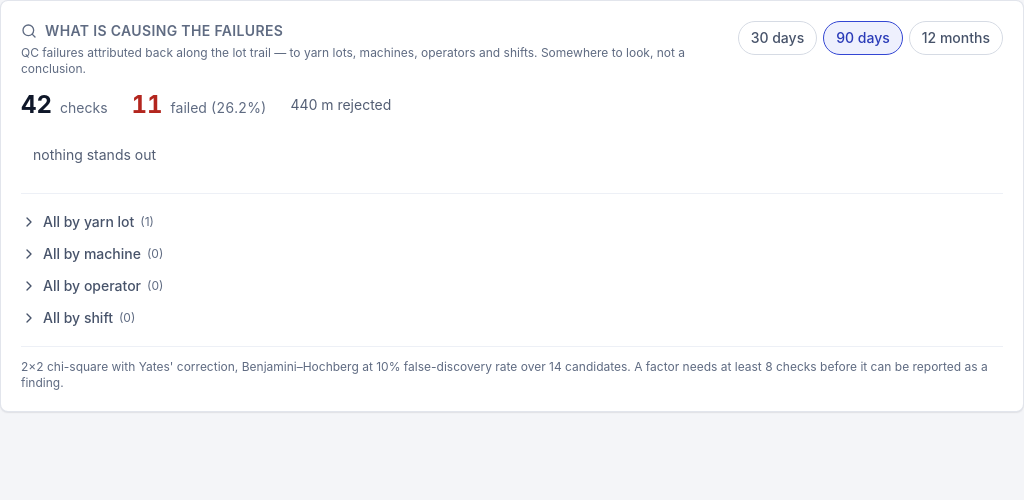
Test: RootCausePanel › keeps thin rows out of the findings but visible in the full table
This screenshot has width=1024, height=500.
Check: the text "nothing stands out" is shown, box left=33, top=146, right=156, bottom=163
But reachable.
Click the button "All by yarn lot (1)". click: point(63, 222)
box: left=21, top=206, right=1003, bottom=238
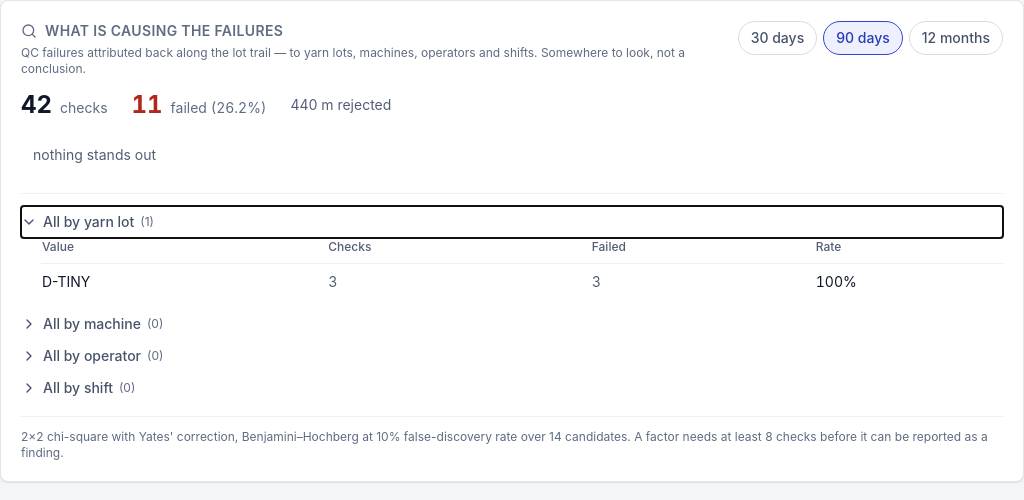
Check: the text "D-TINY" is shown, box left=41, top=264, right=327, bottom=300
